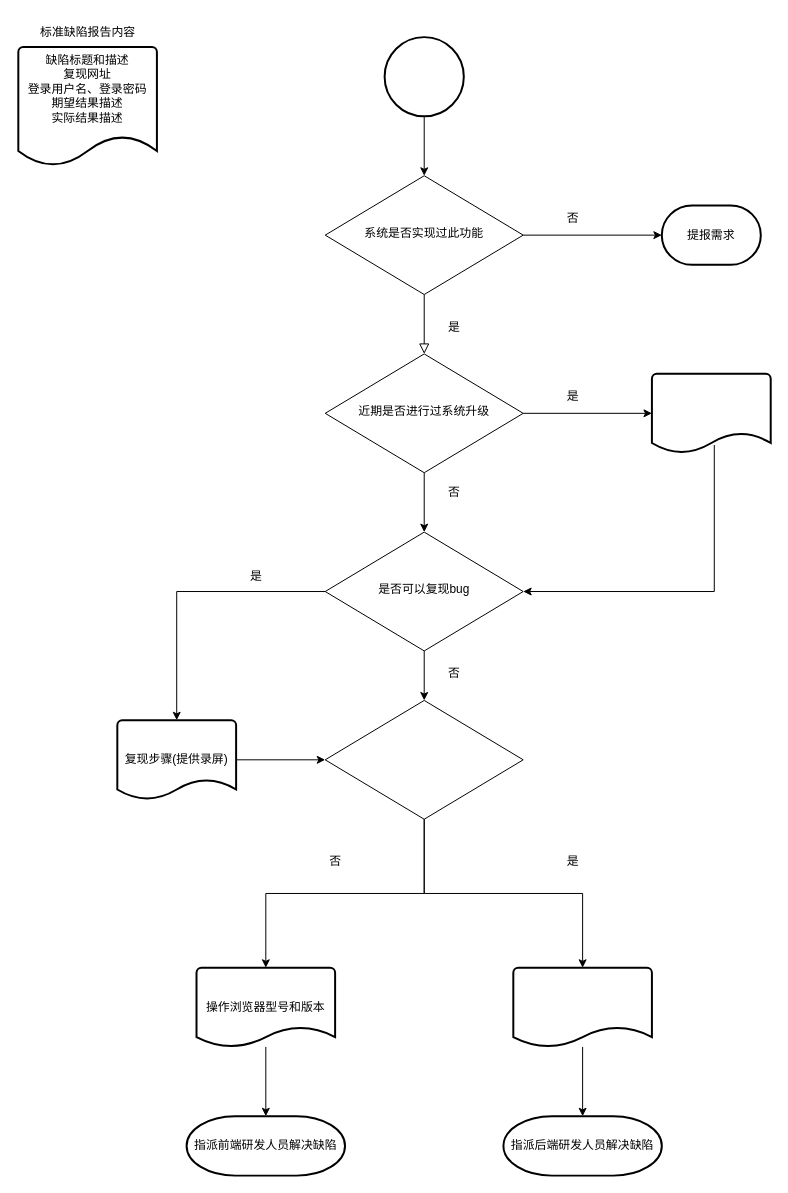
This 788x1193 diagram has some shape labels left out. The shapes that lost their labels are listed below. From the top down, each one's box as (x1, y1, x2, y2) in pixels, then its label:
(383, 36, 464, 117): 缺陷提出
(650, 372, 771, 453): 当前软件版本号
(324, 699, 523, 819): 是否有红色错误信息提示
(512, 966, 652, 1047): 错误日志
